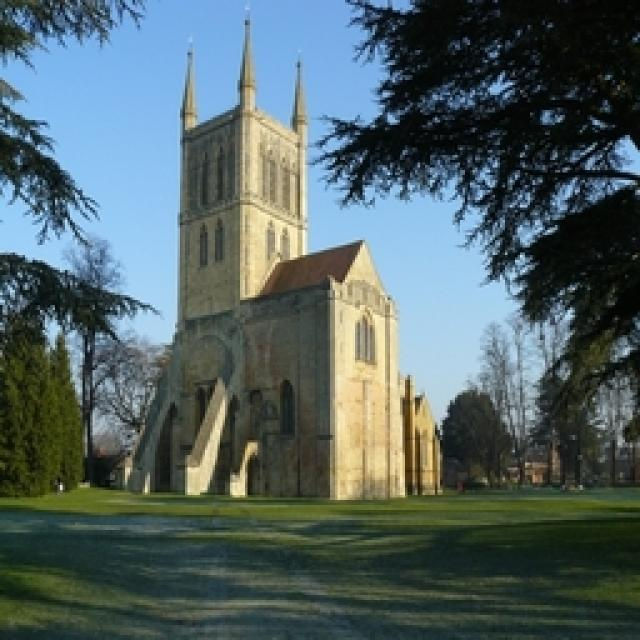Abbey: (118, 1, 448, 503)
